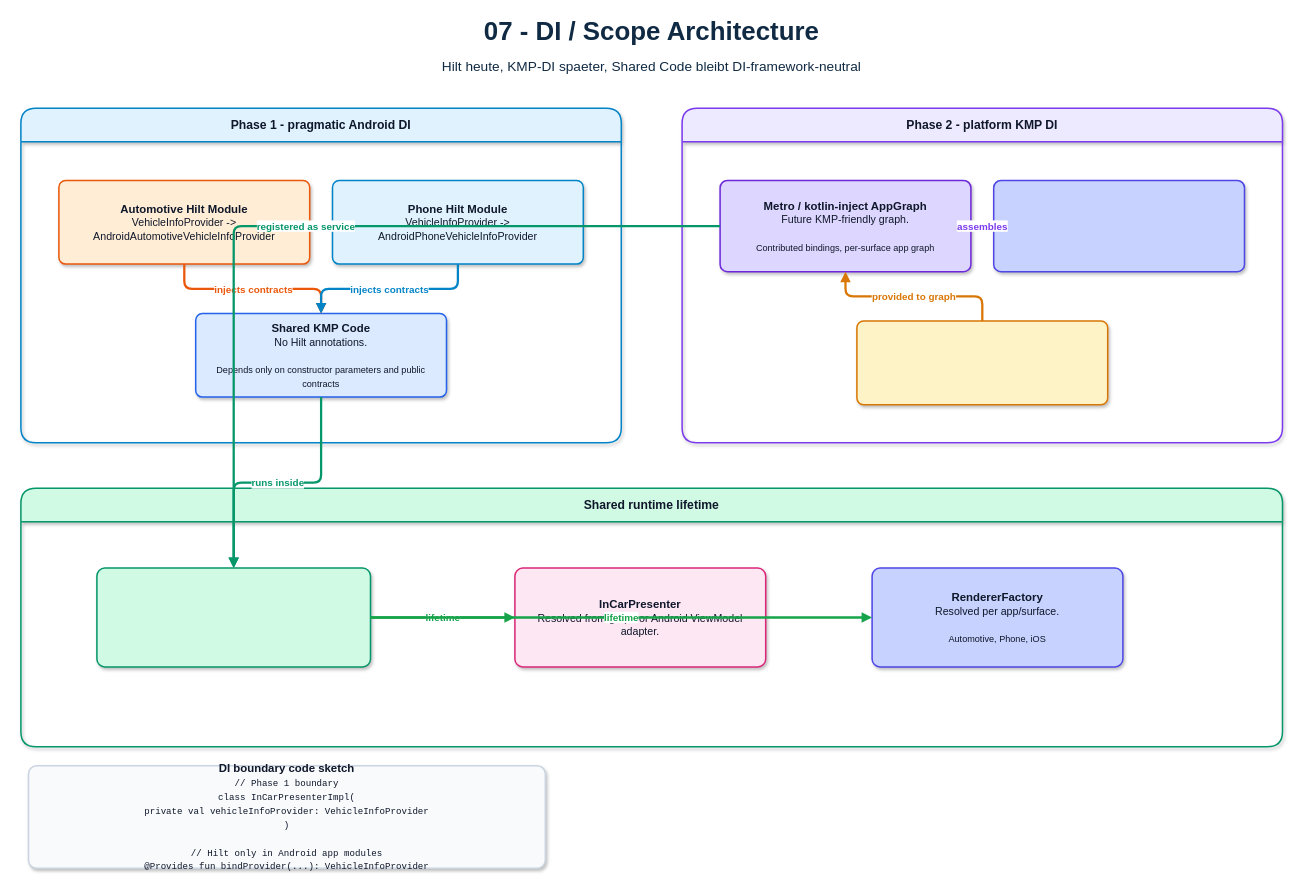
This 1303x887 diagram has some shape labels left out. The shapes that lost their labels are listed below. From the top down, each one's centre as x and y in pixels, then its label:
At [1119,226]: "Generated Bindings @ContributesBinding, @ContributesRenderer, provider bindings".
At [983,363]: "Platform Values Context, RootScopeProvider, vehicle service, iOS host values".
At [234,618]: "RootScope Owns app lifetime. Graph service, CoroutineScope, cleanup callbacks".
